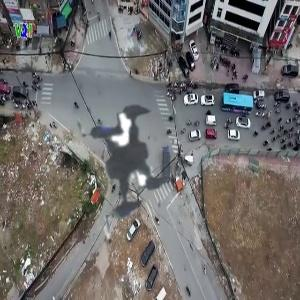drone: (17, 50, 237, 270)
